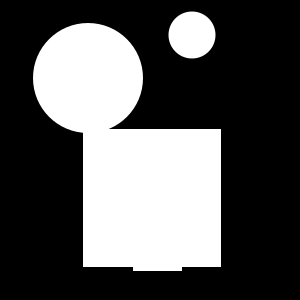circle: (83, 129, 221, 267), (133, 222, 182, 271)
rectangle: (33, 23, 143, 133), (168, 12, 216, 58)
